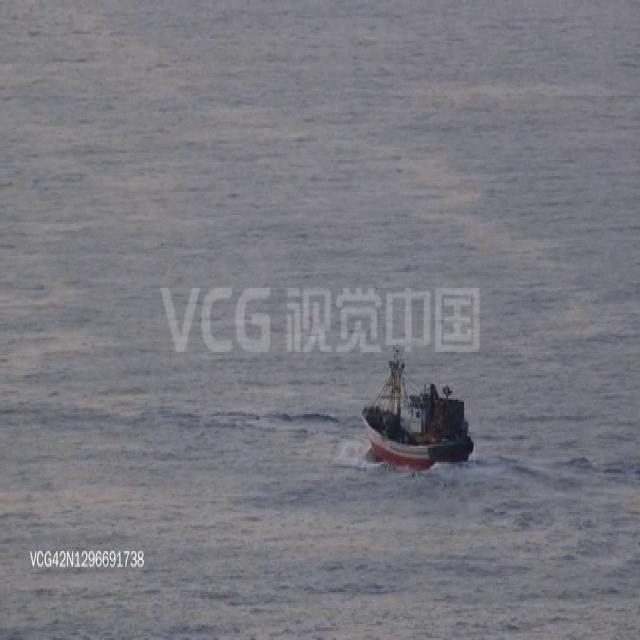houseboat: (362, 346, 473, 468)
